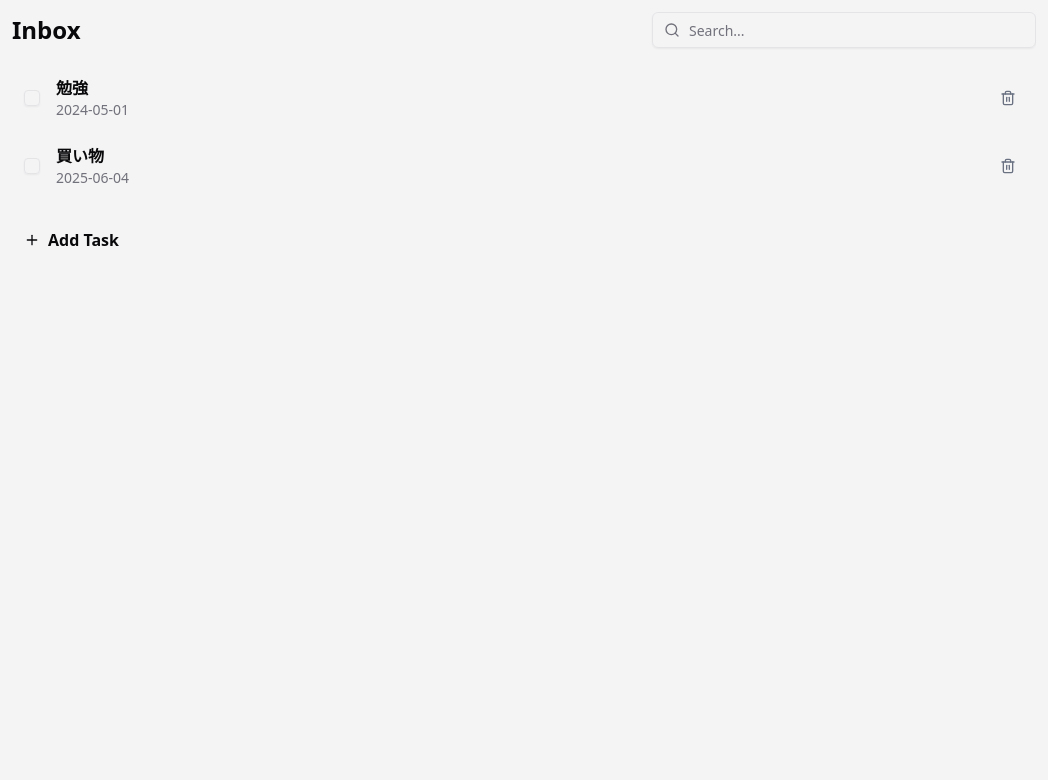
Test case: Inbox List › キーワードで検索をすると、該当するタスクが表示される
Click the button "Add Task" at [83, 240], box [12,216,1036,264]
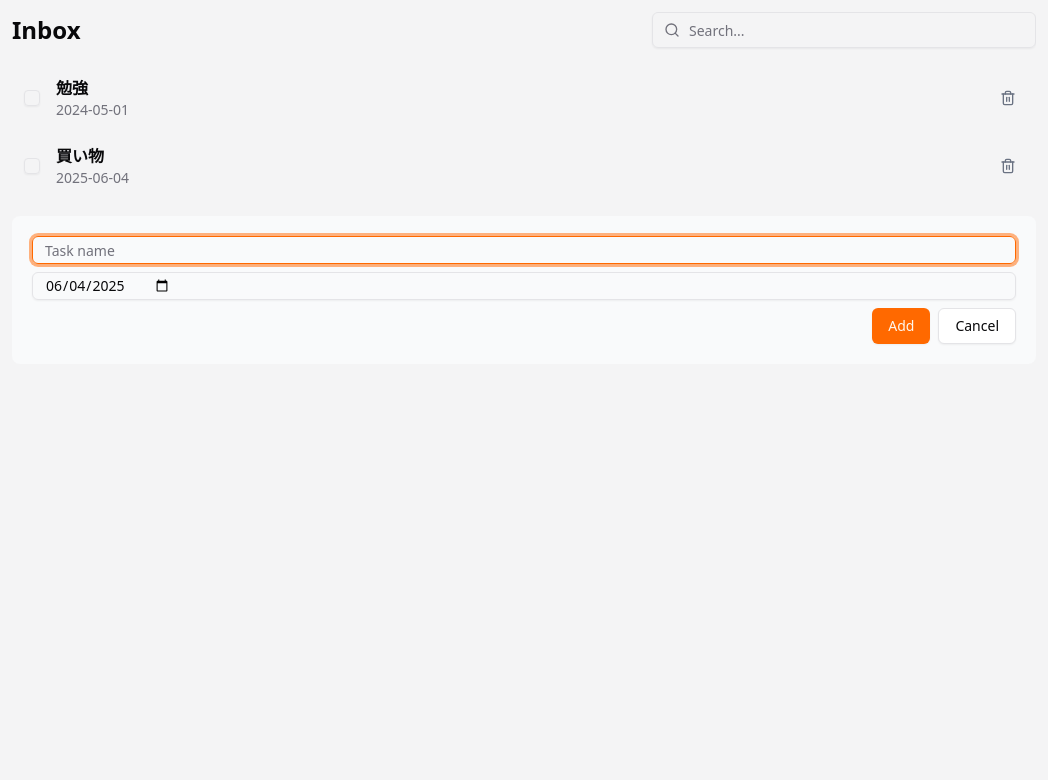
Type "検索タスク" into the field with placeholder "Task name" at [524, 250], box [32,236,1016,264]
Click the button "Add" at [901, 326], box [872,308,930,344]
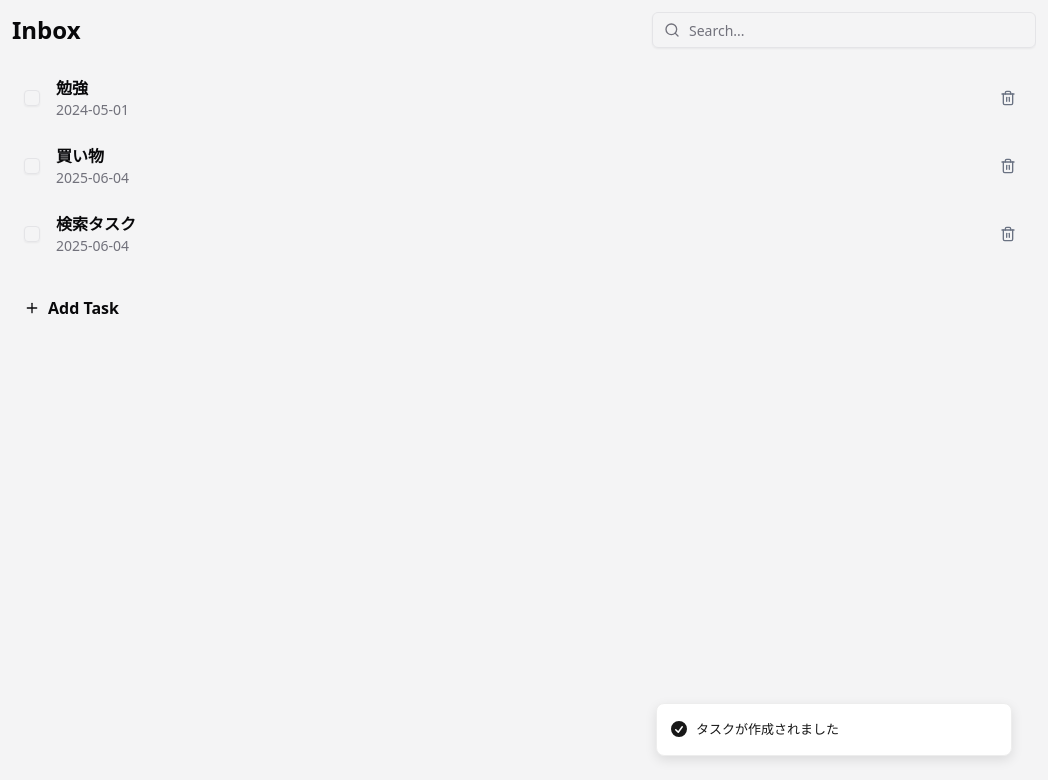
Click the button "Add Task" at [83, 308], box [12,284,1036,332]
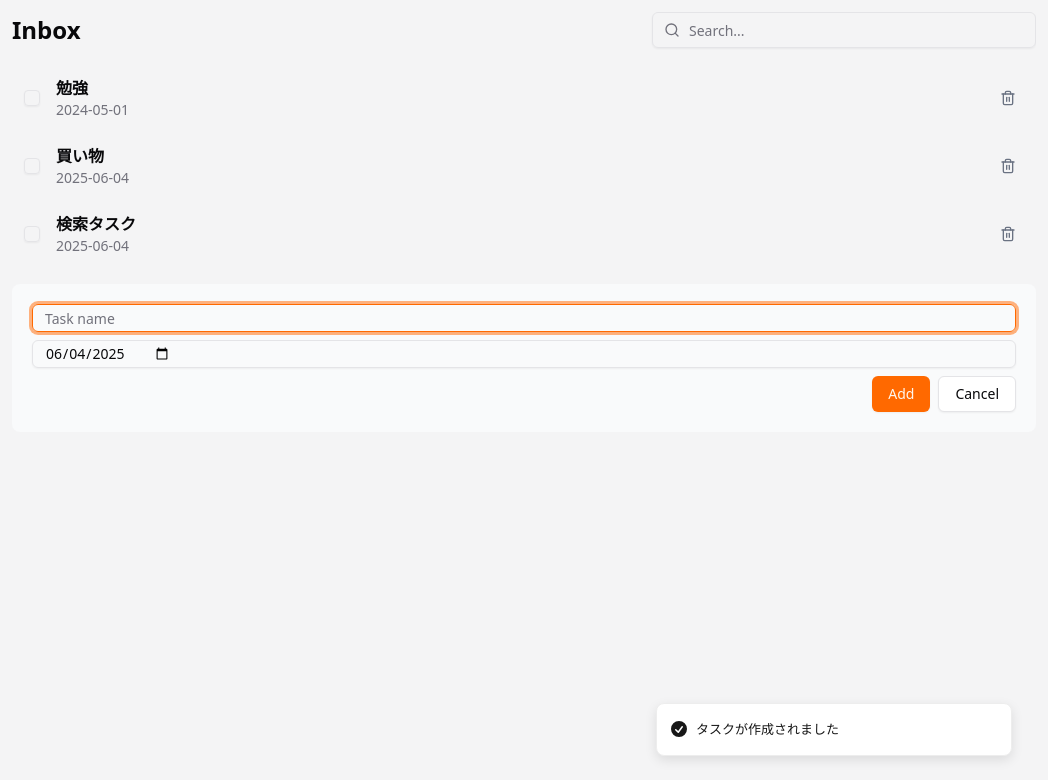
Type "失敗用タスク" into the field with placeholder "Task name" at [524, 318], box [32,304,1016,332]
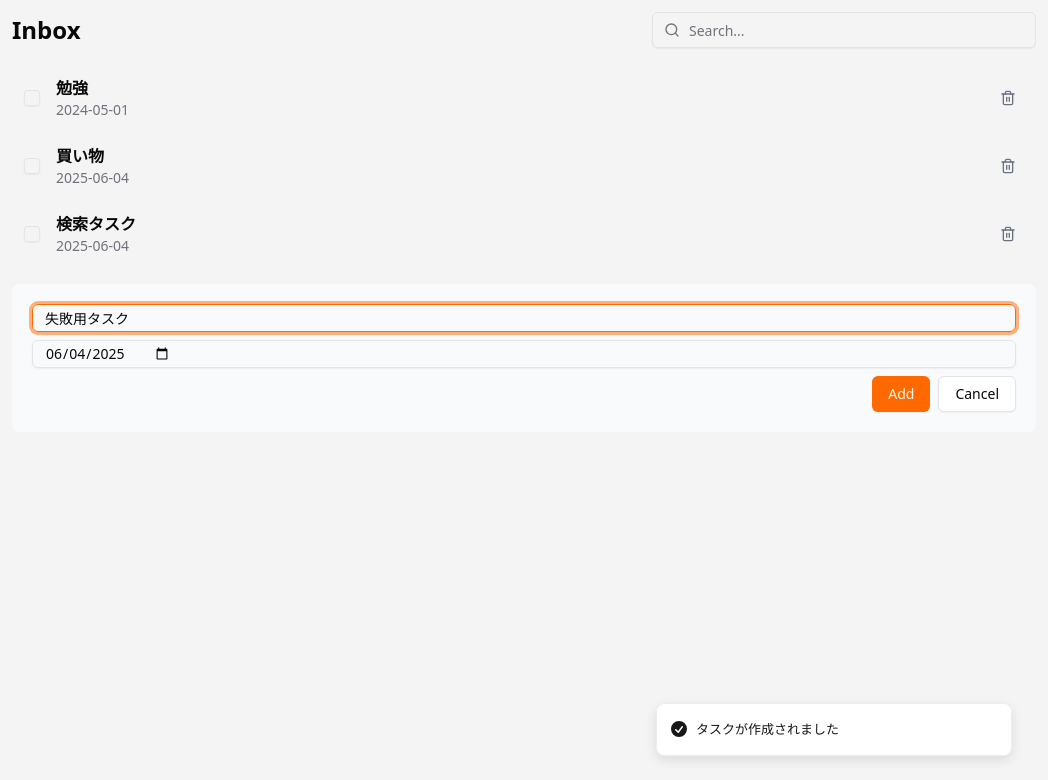
Click the button "Add" at [901, 394], box [872,376,930,412]
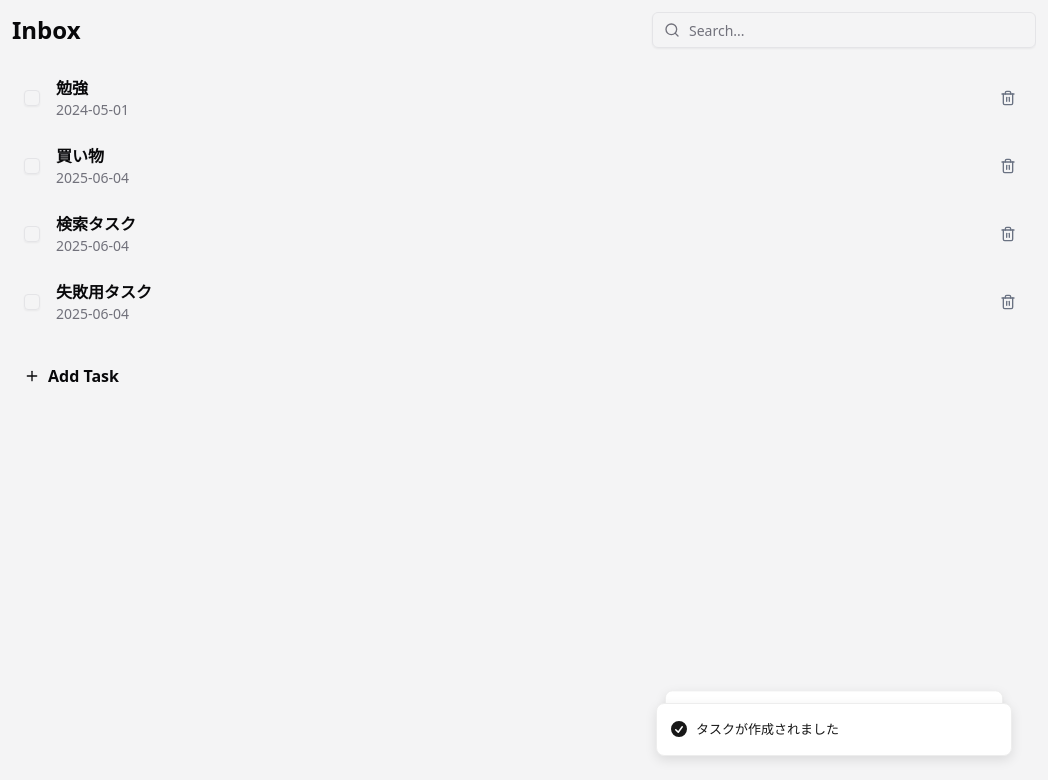
// 検索ボックスにキーワードを入力
Type "検索" into the field with placeholder "Search..." at [844, 30], box [652,12,1036,48]
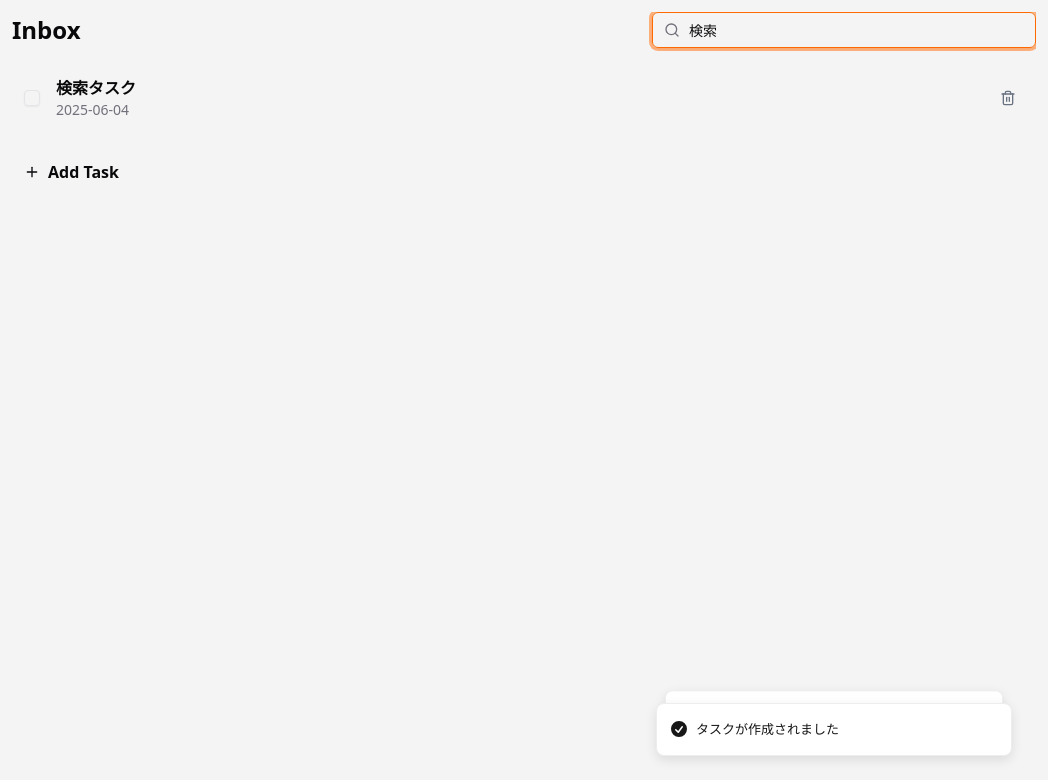
Result: the text "検索タスク" is shown at [56,76,136,100]
Result: the button "失敗用タスク" is gone
